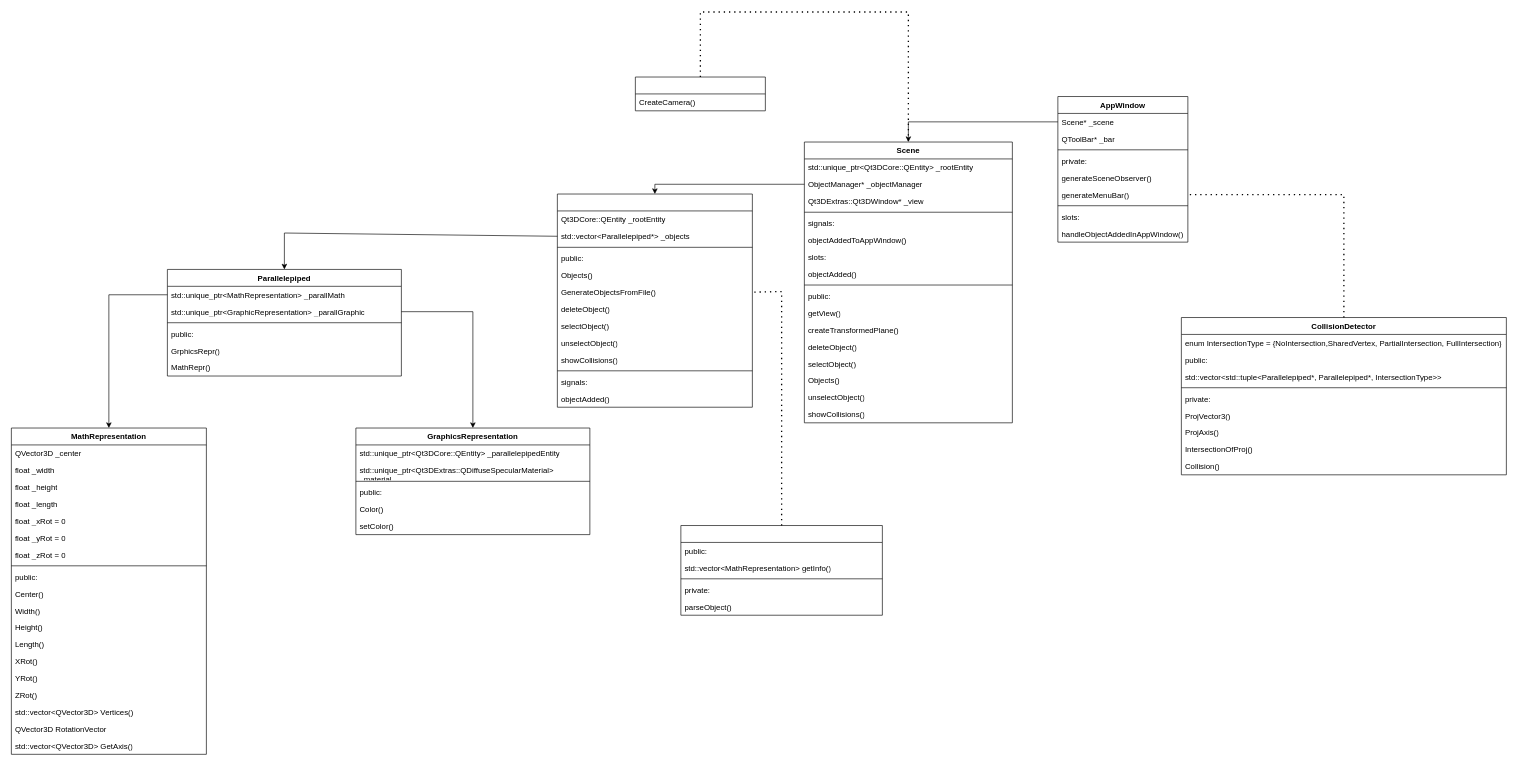
This 1518x767 diagram has some shape labels left out. Here are the shapes that lost their labels. From the top down, the box of each, then its label:
(635, 76, 765, 111): CameraController
(557, 193, 752, 407): ObjectManager()
(680, 525, 882, 615): Parser
